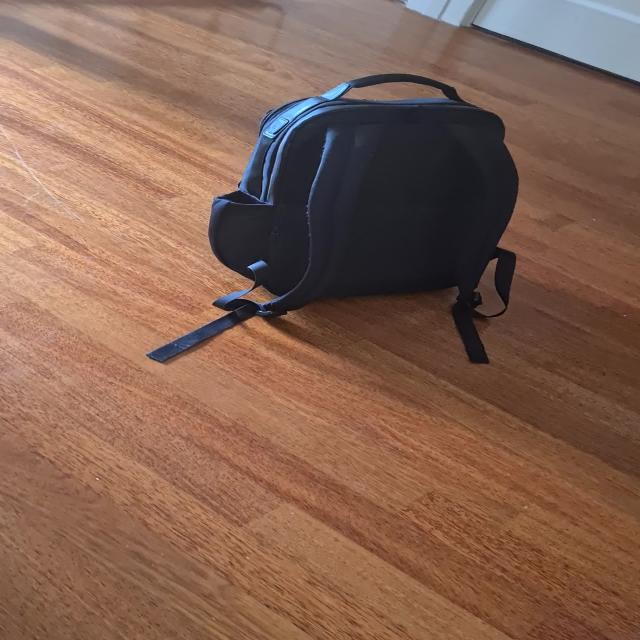backpack: (196, 62, 532, 318)
